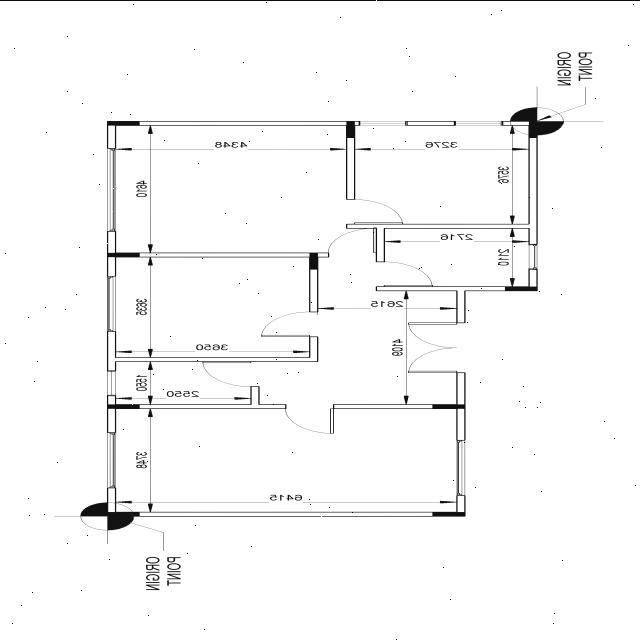Column: (432, 510, 466, 516), (108, 510, 140, 516), (432, 403, 466, 408), (107, 120, 140, 125), (346, 120, 355, 138), (528, 120, 538, 136), (506, 285, 538, 290), (108, 403, 140, 408), (106, 252, 140, 256), (310, 252, 318, 268)
Door: (202, 360, 260, 386), (286, 403, 334, 433), (346, 198, 403, 223), (262, 311, 318, 336), (377, 261, 432, 286), (328, 228, 376, 256)
Double-Door: (408, 322, 465, 372)
Window: (107, 147, 116, 231), (106, 275, 116, 331), (456, 439, 466, 495), (107, 432, 116, 488), (528, 243, 538, 269), (108, 370, 116, 396), (454, 120, 502, 124), (360, 120, 408, 124)
